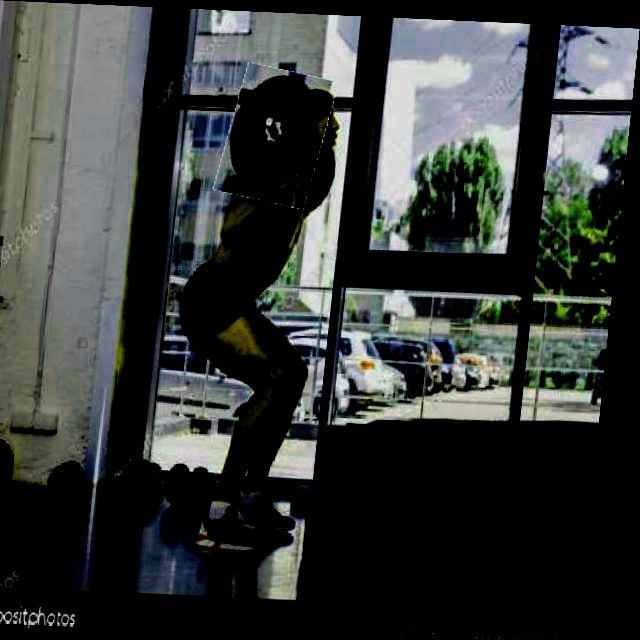barbell: (222, 64, 337, 203)
